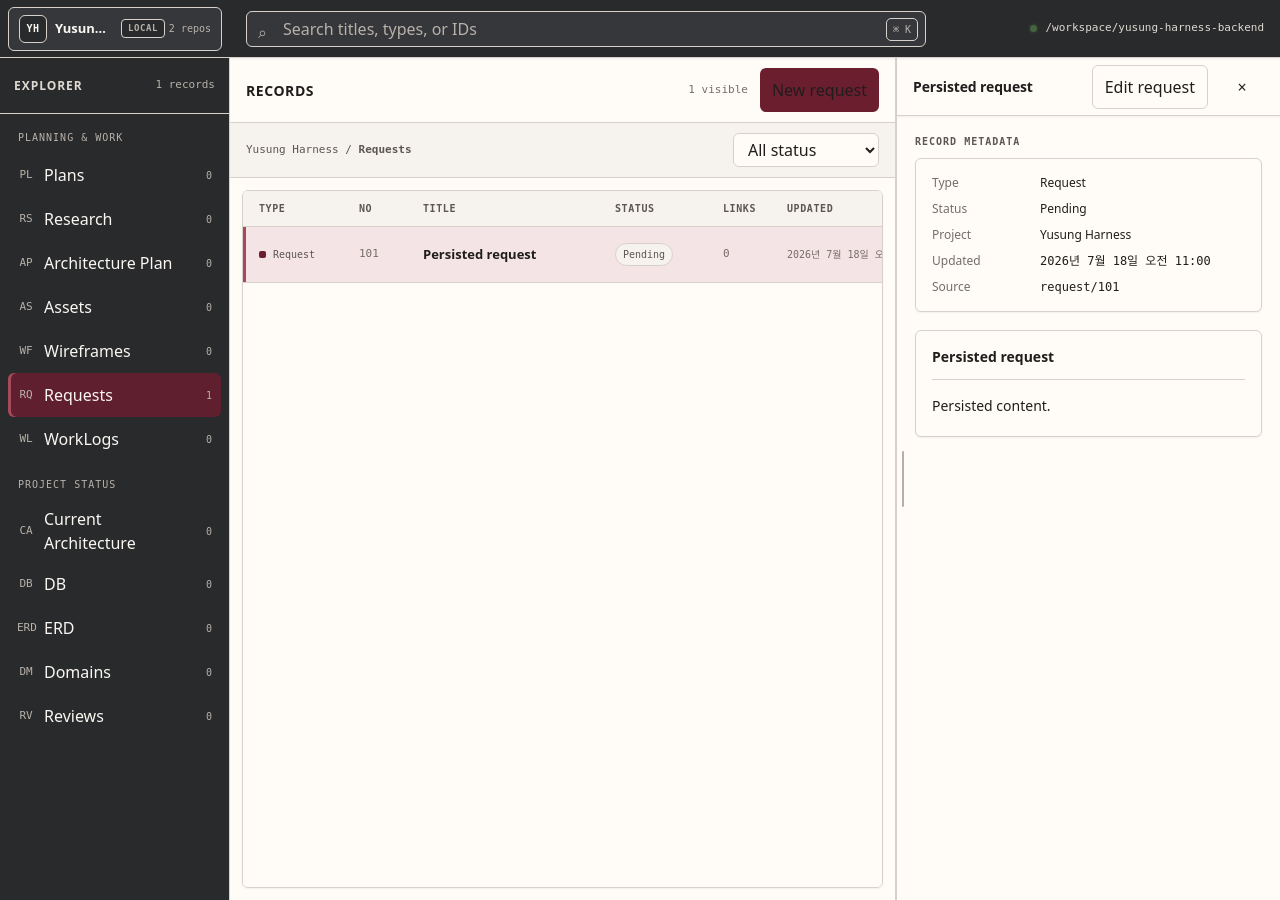
Request central document mutations › 수정 실패 시 form 입력을 보존하고 기존 Request record를 변경하지 않는다
Click the button "Edit request": (1150, 86) [1092,64,1208,108]
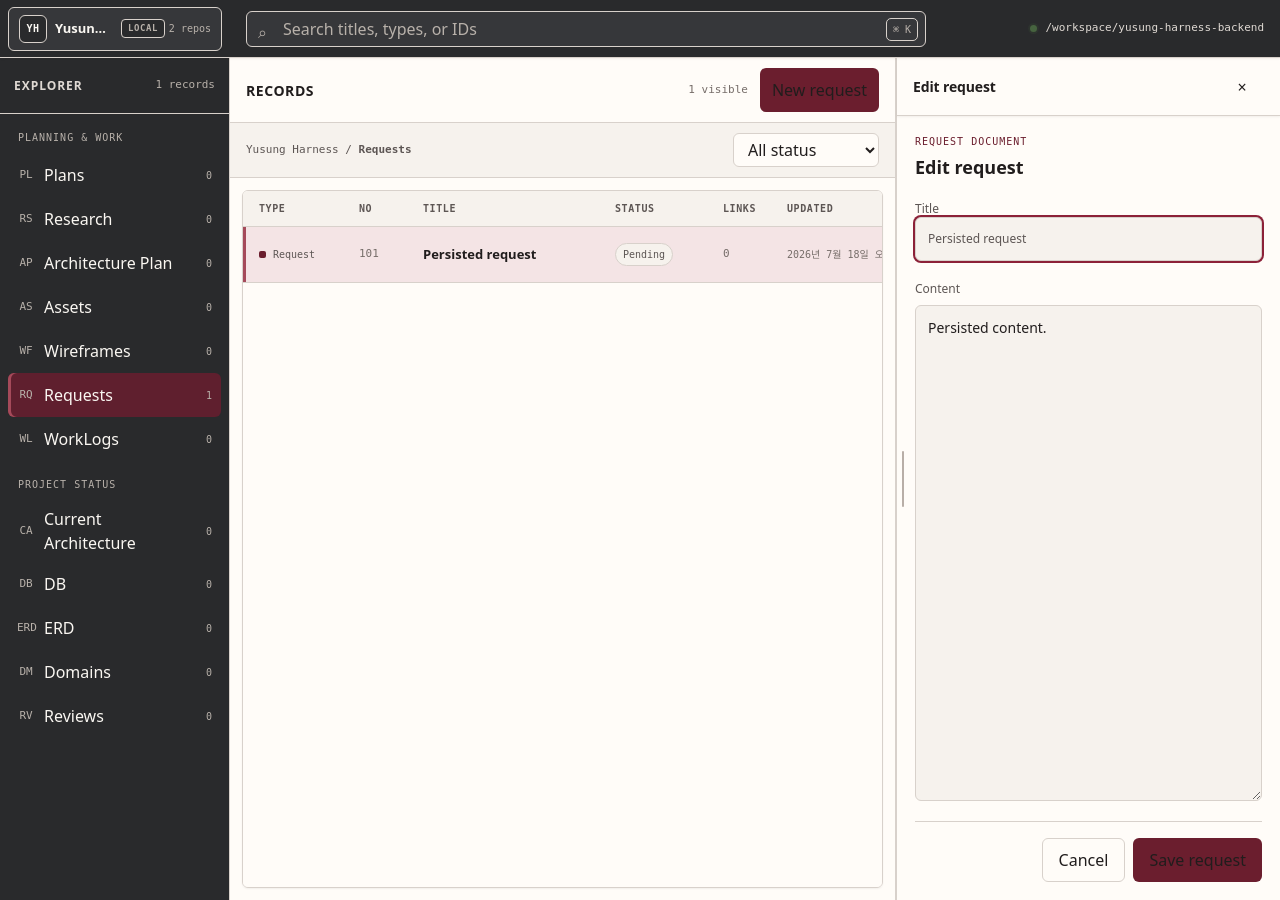
Replace the text in the field labelled "Title" with "Unsaved title": (1088, 239) [915,217,1262,261]
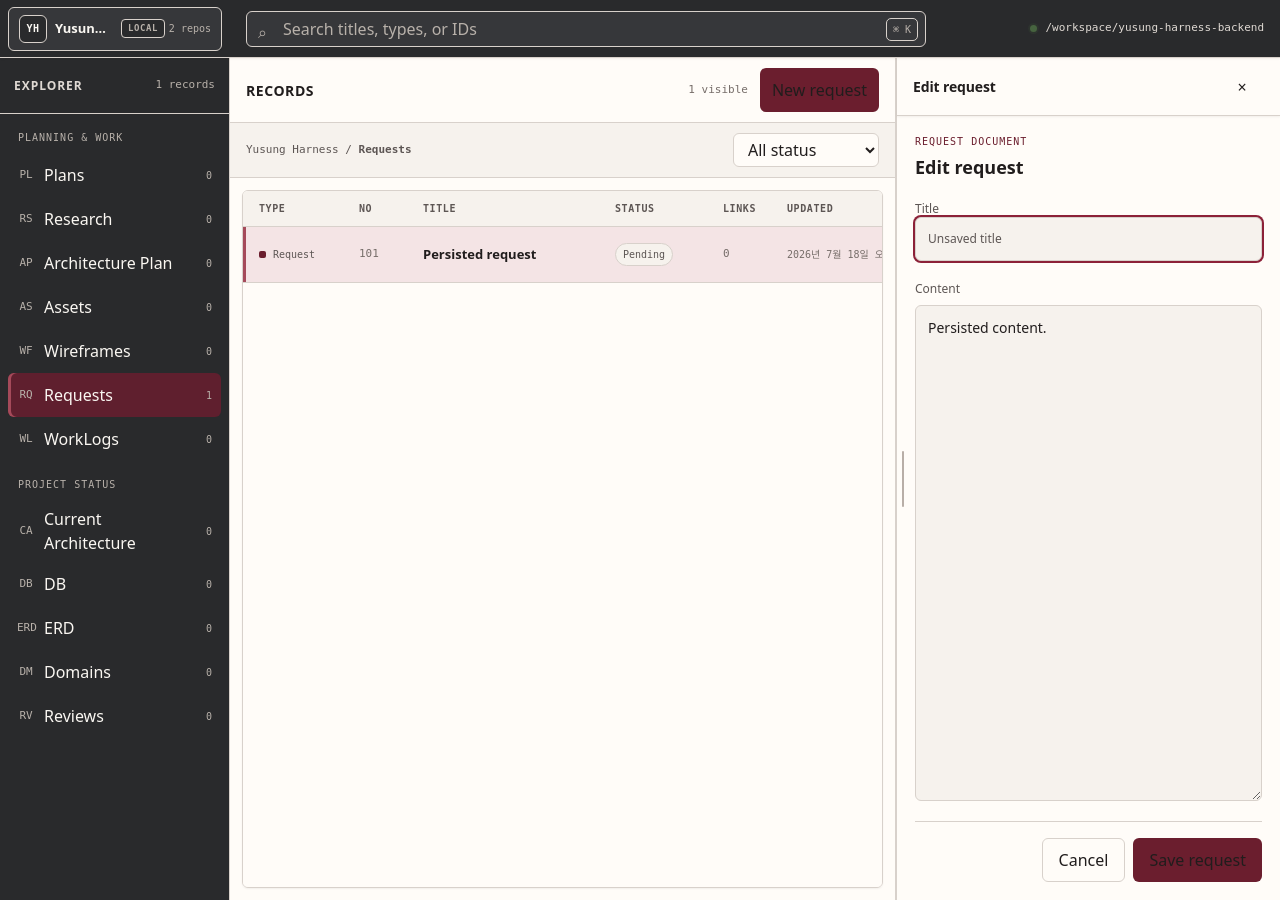
Replace the text in the text box labelled "Content" with "Unsaved content.": (1088, 553) [915,305,1262,801]
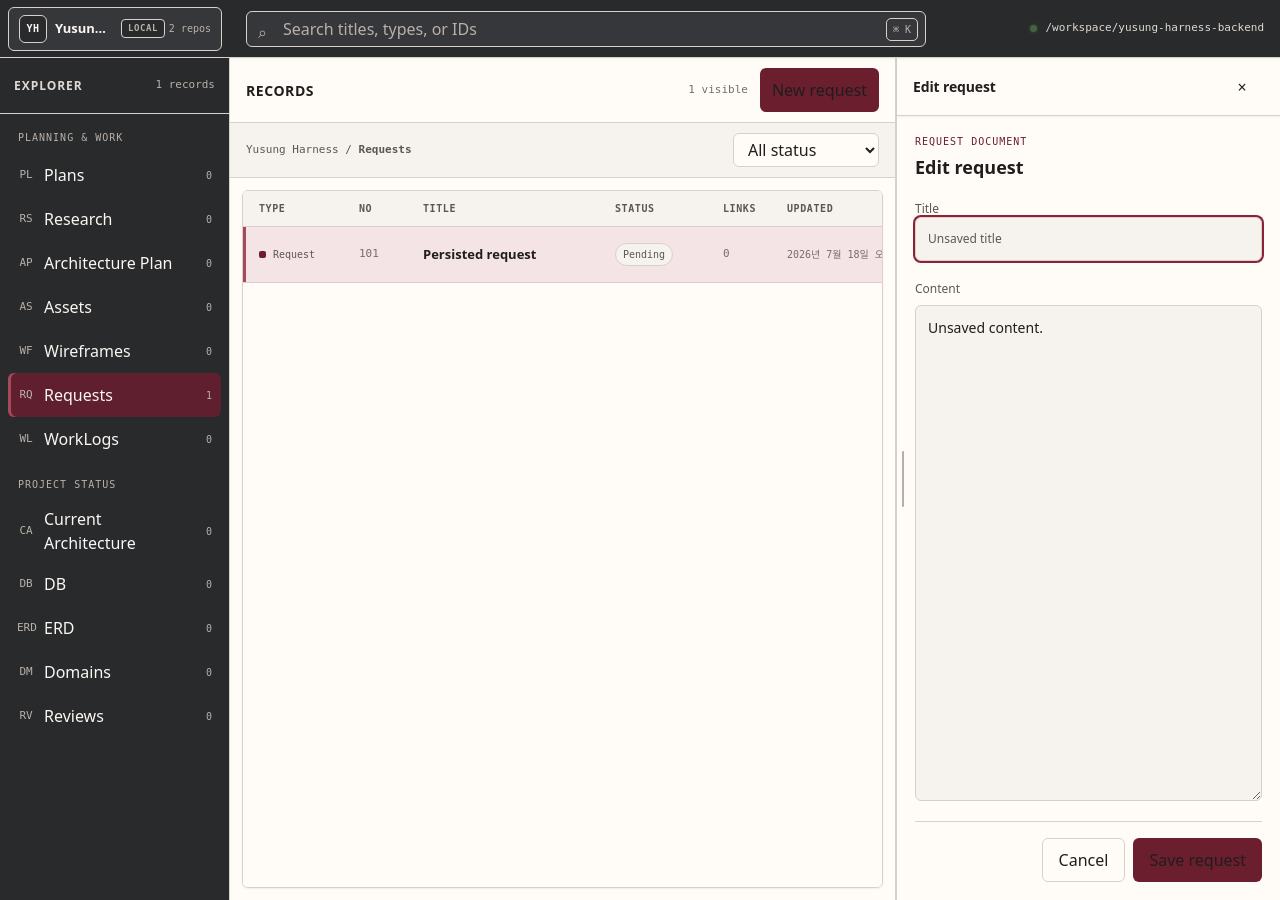
Click the button "Save request": (1198, 860) [1133,838,1262,882]
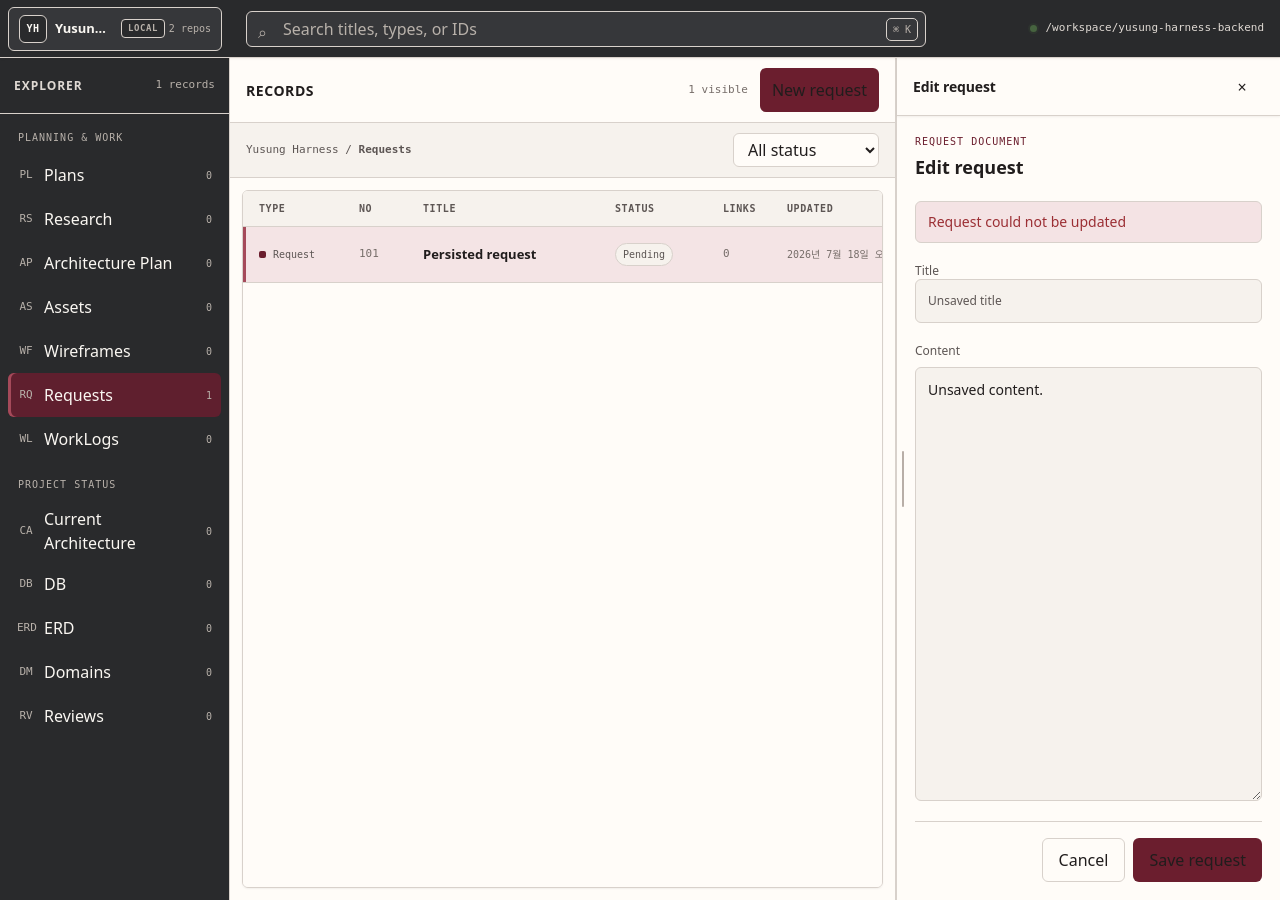
Expected: the option with aria-label "Title Persisted request" is shown, [243,227,883,283]
Now the message reads "Request could not be updated", box [928,212,1126,231]
